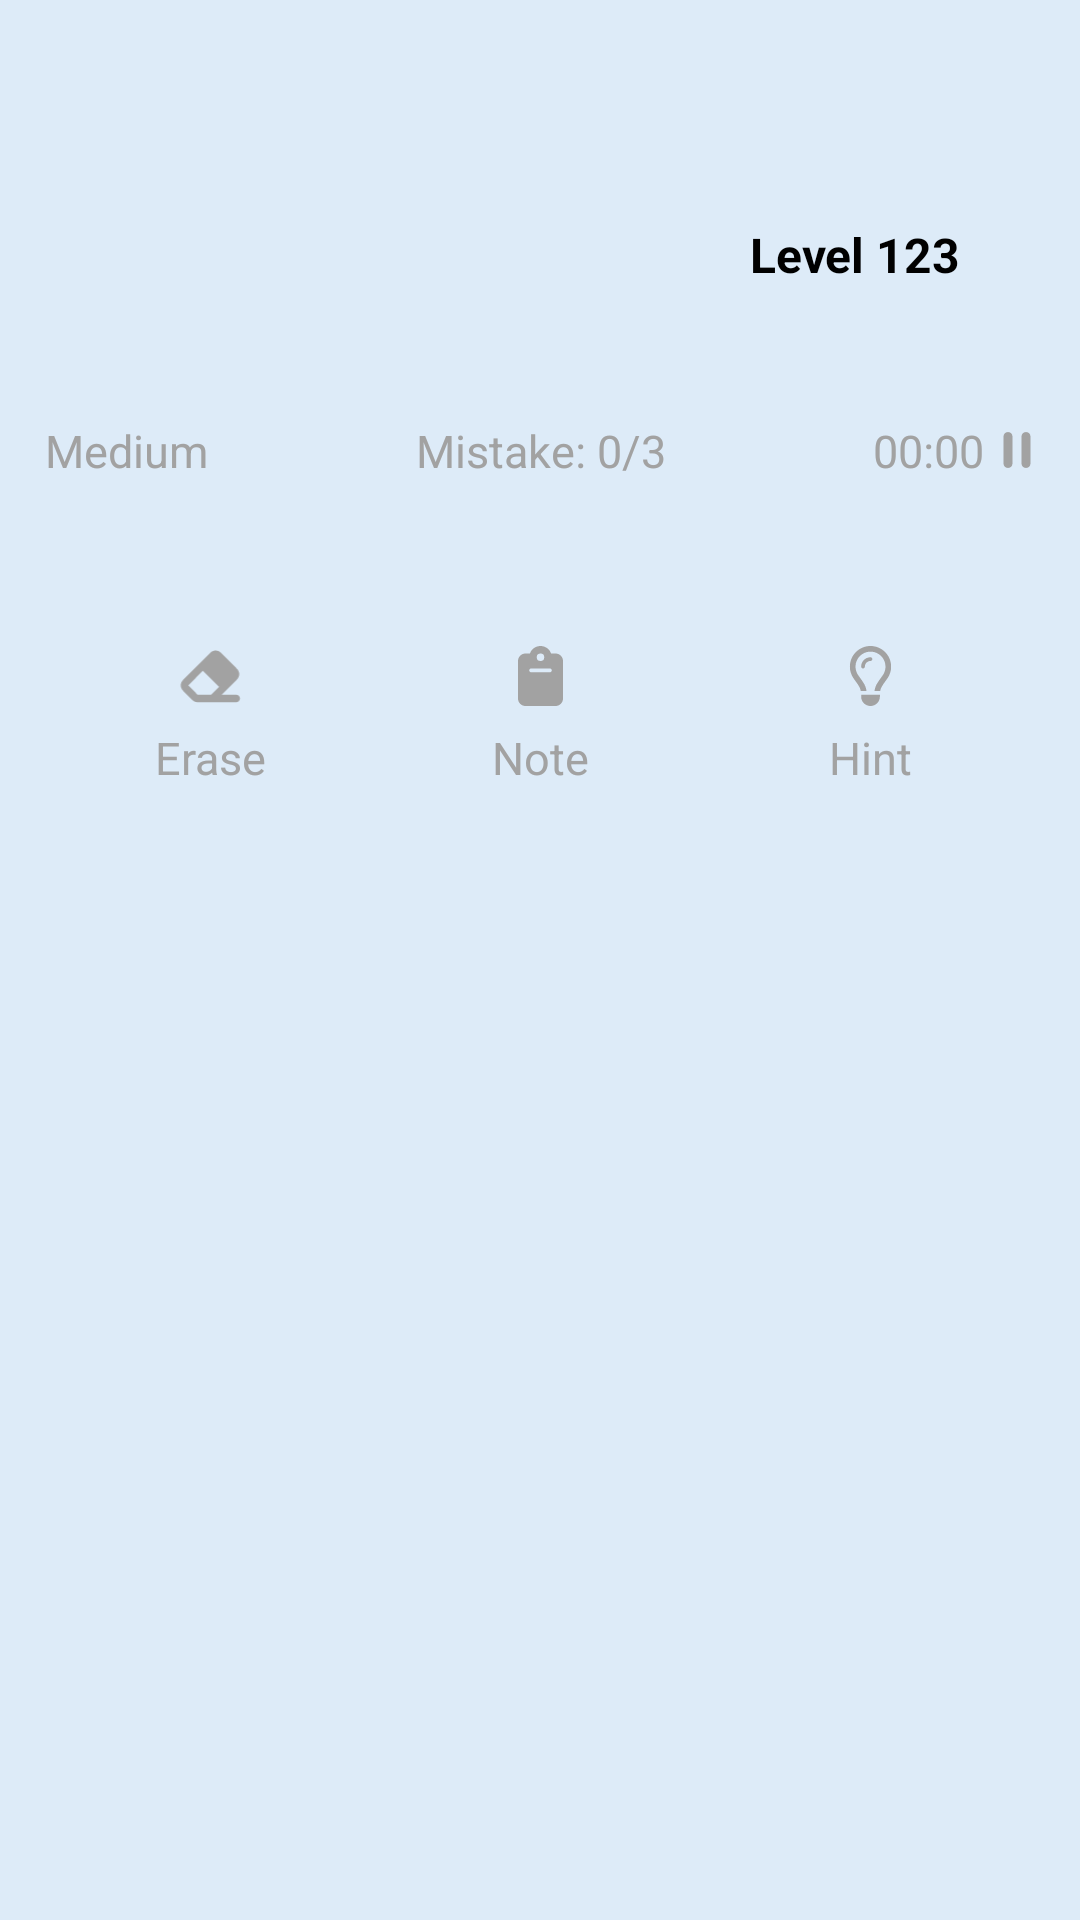

Screen size 1080px x 1920px. Icon name, then its box in pixels as box=[x1, y1, x2, y2]:
Pause: box=[1003, 432, 1031, 468]
